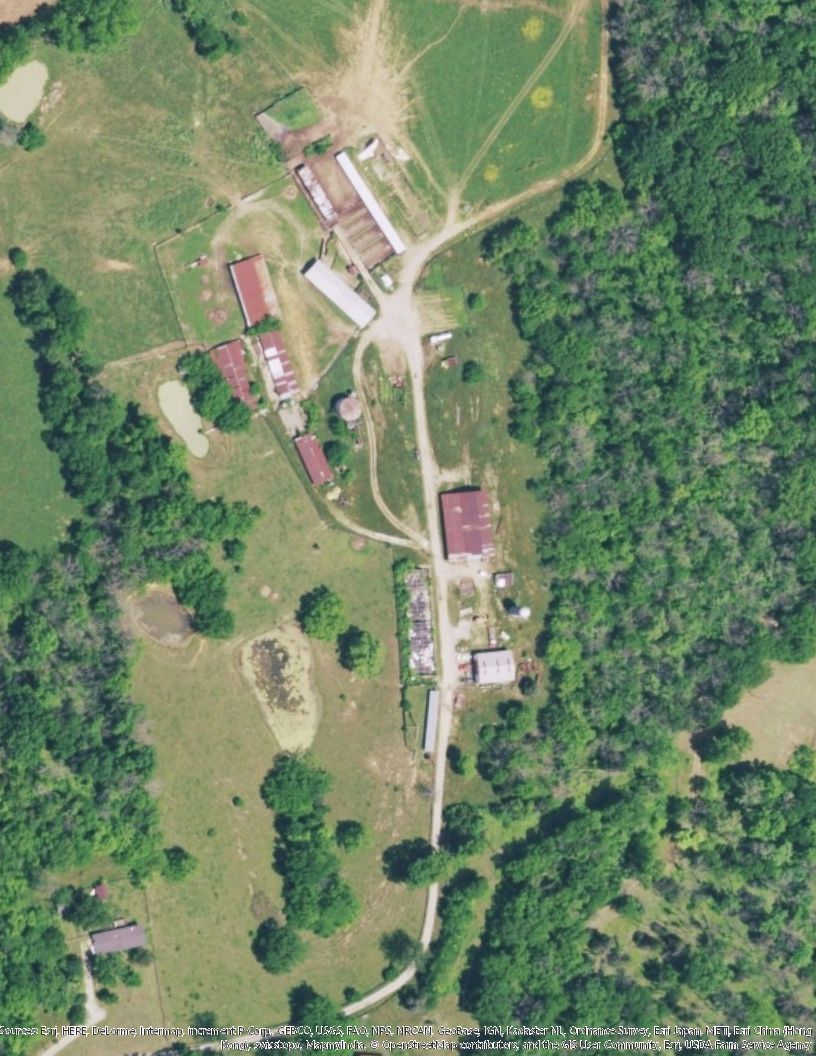cafo: (301, 259, 378, 330), (439, 488, 496, 565), (228, 252, 283, 330), (207, 337, 254, 412), (258, 327, 298, 396), (294, 433, 336, 487)
